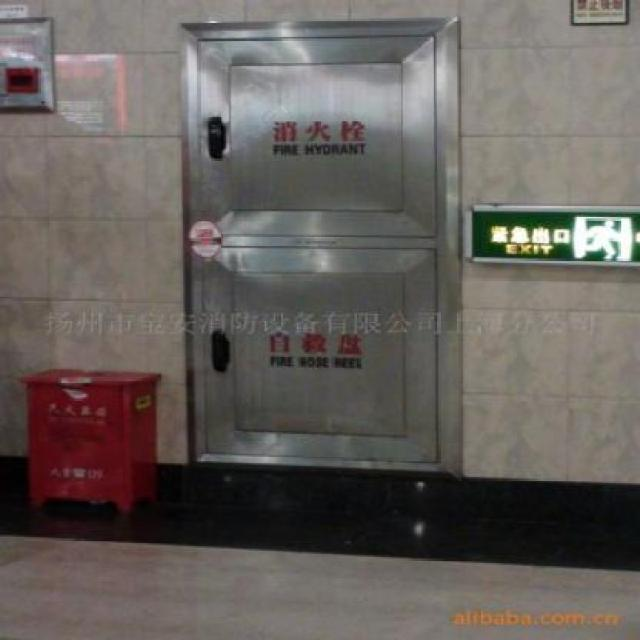firehydrant: (177, 14, 469, 482), (15, 365, 170, 517)
